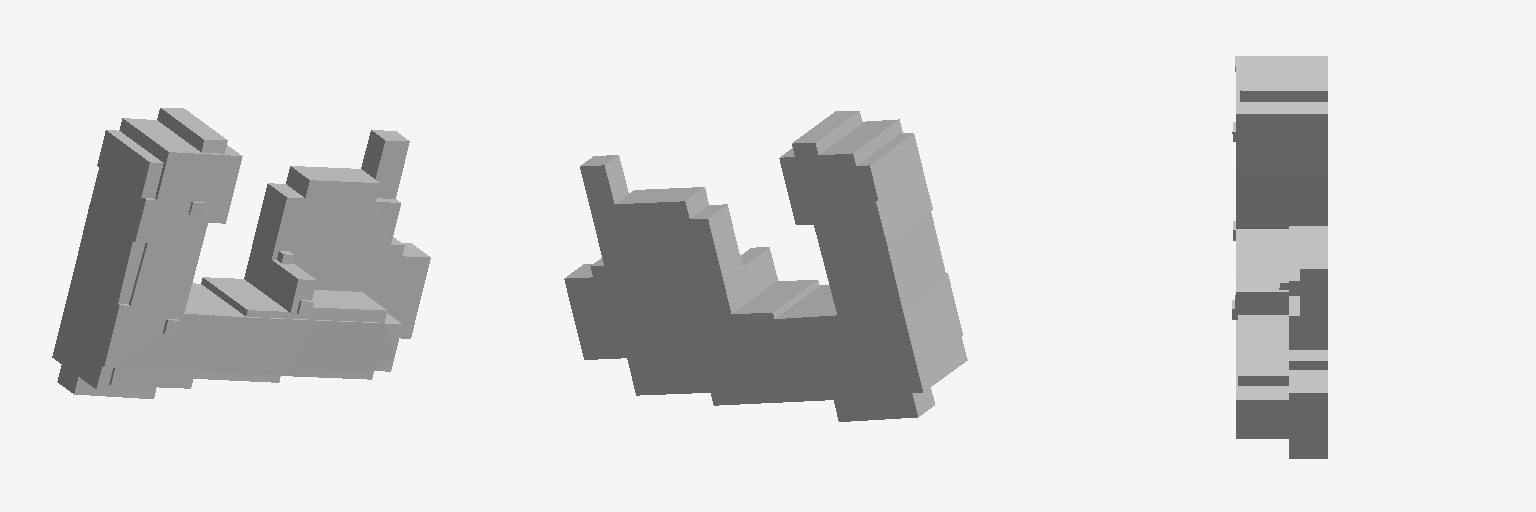
The model's file is talo_Build0000039.obj.
The picture shows the model from 3 angles: view 1: azimuth 30°, elevation 25°; view 2: azimuth 150°, elevation 25°; view 3: azimuth 270°, elevation 25°; orthographic projection.
Bounding box in the file's own units: 74.71 × 58.86 × 17.41.